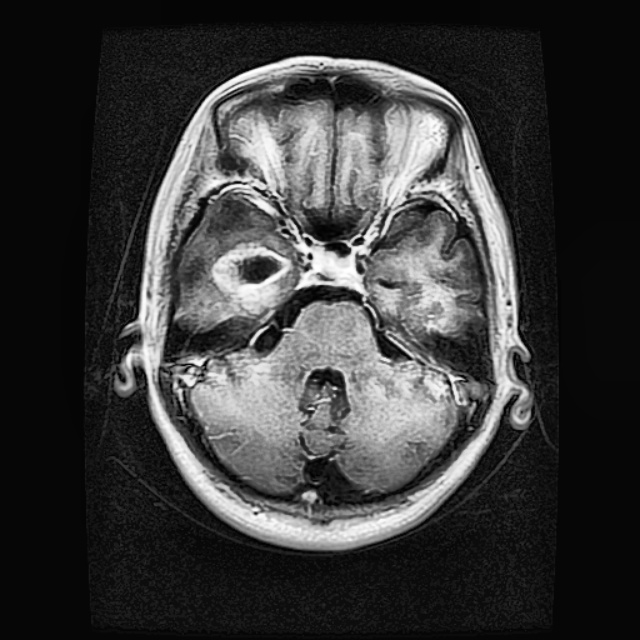Pituitary: (207, 228, 298, 317)
